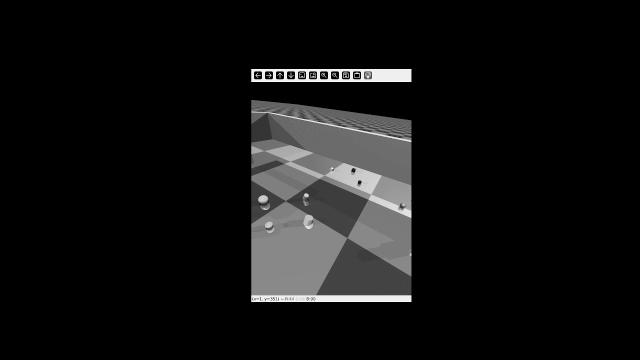cilindro: (303, 213, 315, 226), (301, 192, 312, 201)
cuadrado: (329, 166, 335, 173), (351, 168, 357, 173)
esfera: (257, 193, 269, 207), (264, 220, 274, 231), (398, 201, 409, 209), (356, 180, 363, 185)
